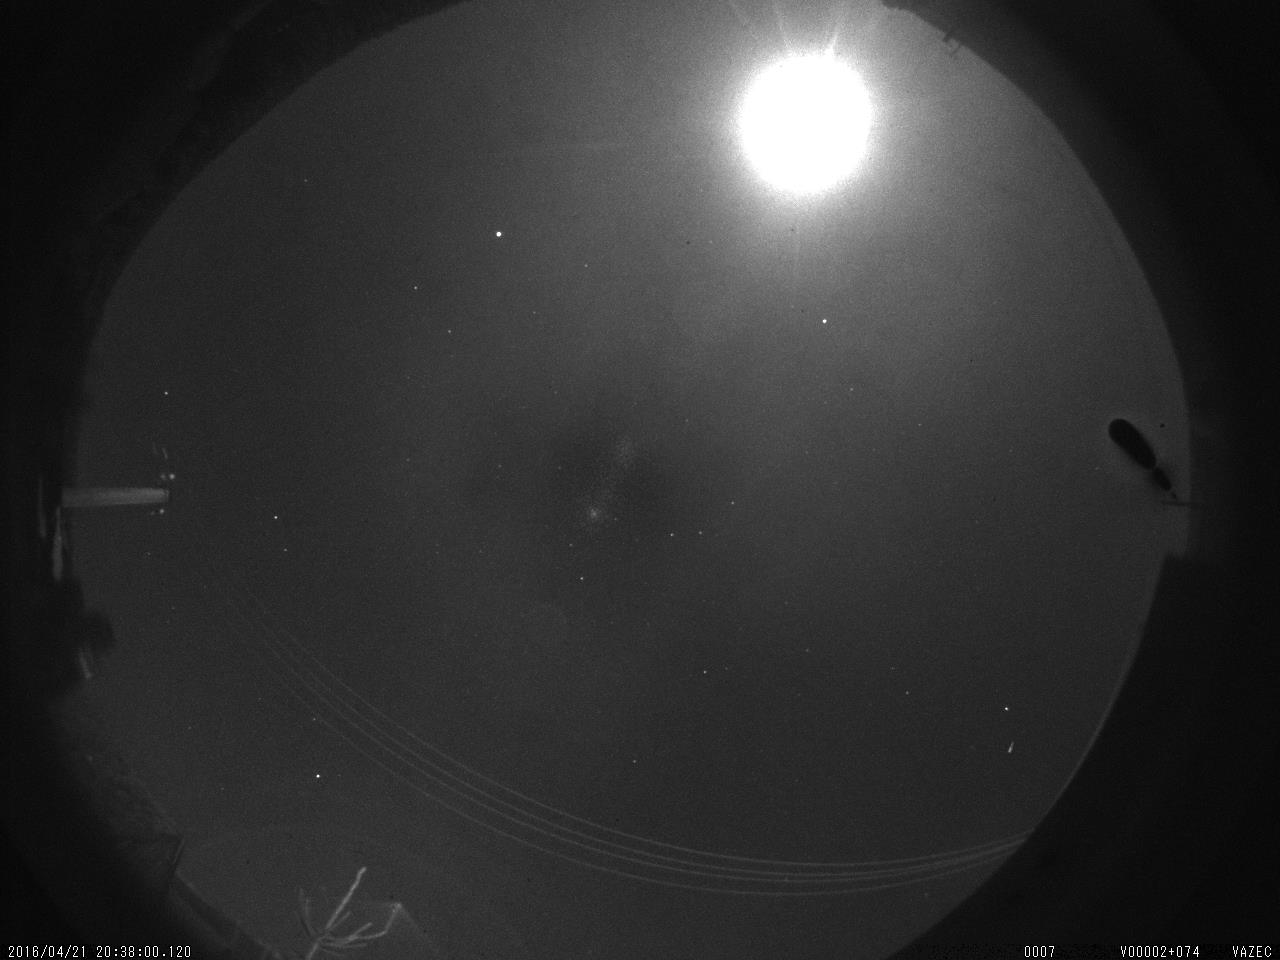meteor: (1000, 735, 1023, 757)
